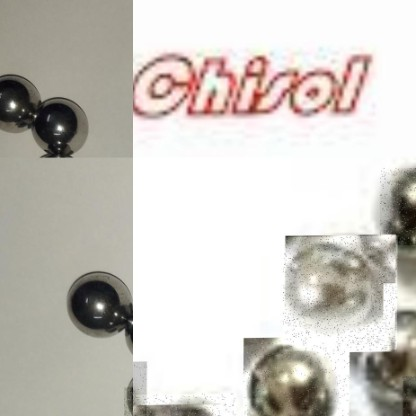ironball: (283, 236, 397, 352), (243, 337, 349, 415), (64, 261, 128, 337), (0, 61, 48, 135), (32, 93, 89, 155), (379, 168, 415, 246), (132, 393, 237, 415)
